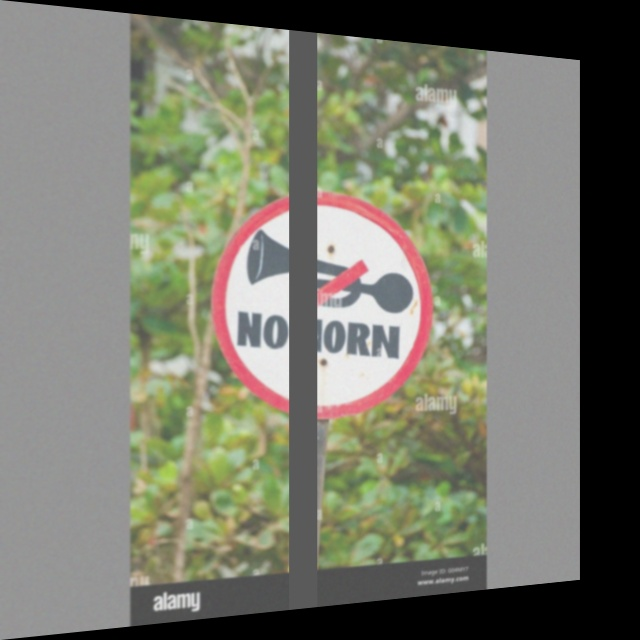Horn_Prohibited: (217, 183, 430, 425)
